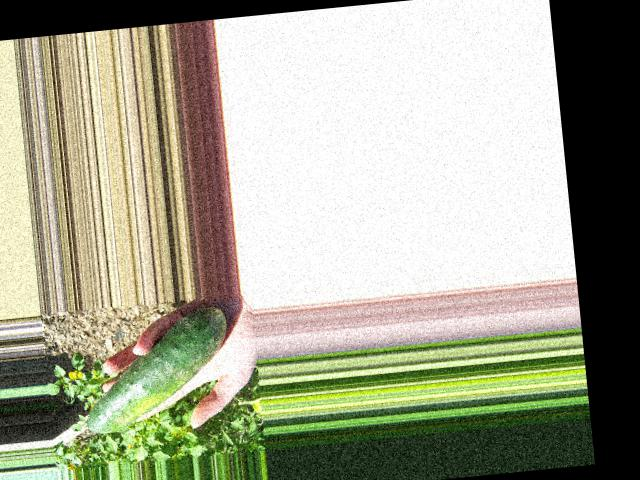cucumber: (76, 306, 234, 434)
